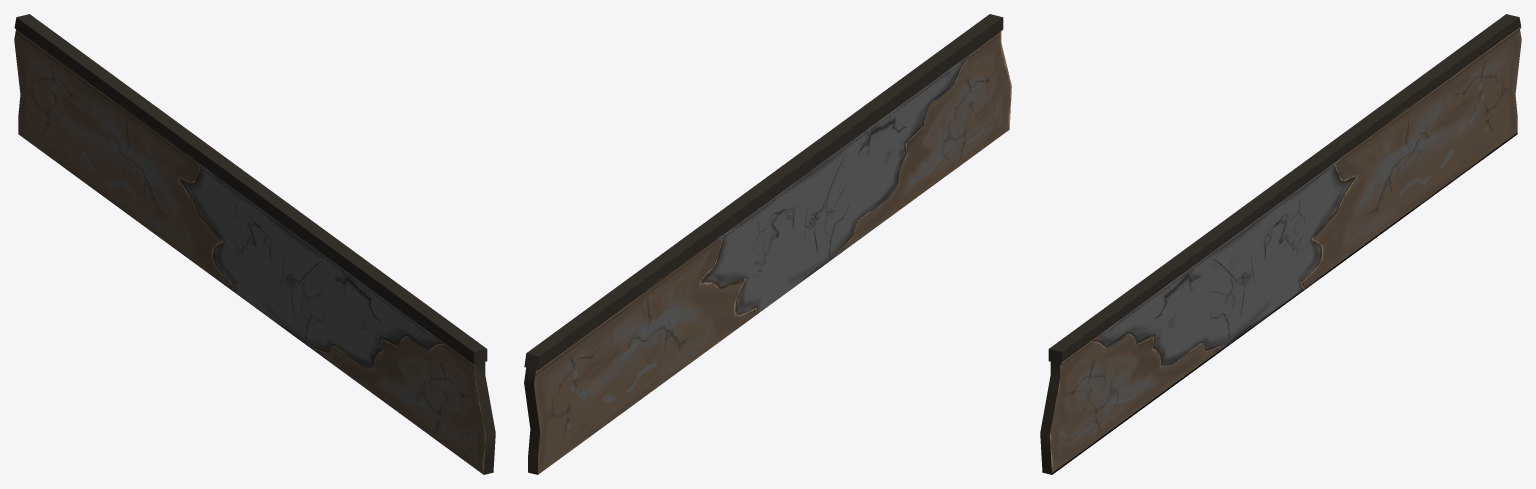
The model's file is wall.fbx.
3 renders of one model, left to right at view 1: azimuth 30°, elevation 25°; view 2: azimuth 150°, elevation 25°; view 3: azimuth 330°, elevation 25°, orthographic.
Parts seen in each view (by area): view 1: Wall; view 2: Wall; view 3: Wall.
Boxes of the visible parts, x1,y1,x2,y2 form: Wall: (14, 14, 495, 474); Wall: (524, 14, 1011, 474); Wall: (1040, 14, 1521, 474).
Bounding box in the file's own units: 0.8598 × 7.27 × 53.03.
